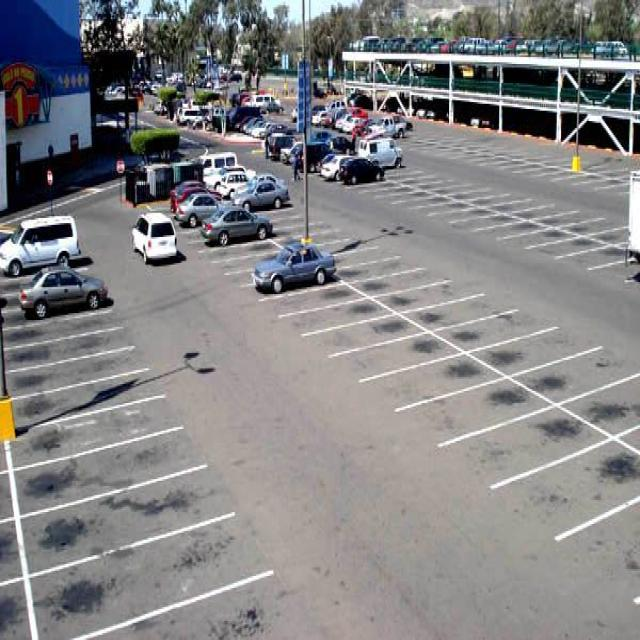libre: (209, 206, 635, 610), (2, 311, 313, 635), (348, 165, 626, 283), (407, 124, 640, 187)
ocupado: (122, 160, 283, 244), (239, 107, 402, 178), (0, 214, 112, 310), (251, 256, 346, 290)
